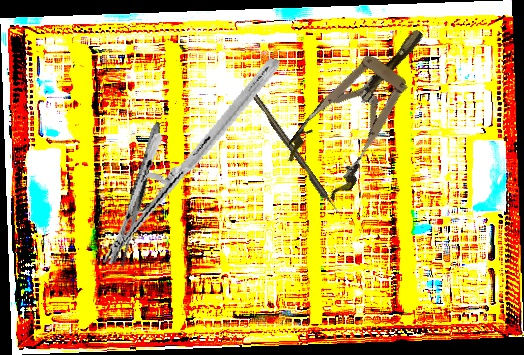Dressing Forceps: (111, 119, 165, 269)
Hook Surgical: (247, 87, 342, 218)
Needle Holder: (103, 34, 280, 289)
Speculum: (277, 8, 452, 206)
